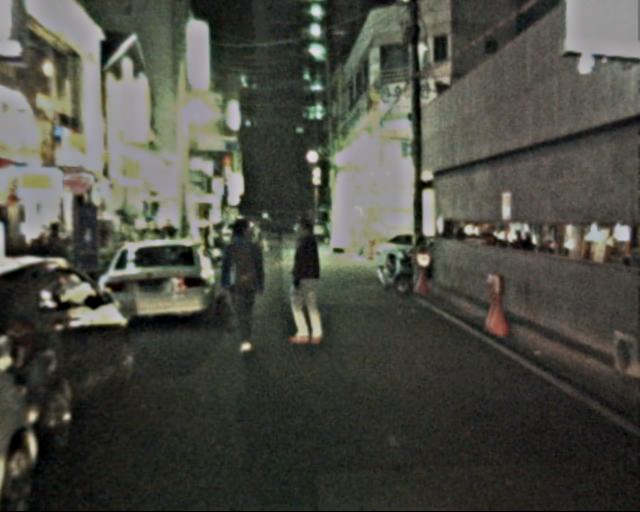person: (216, 218, 271, 351), (280, 221, 331, 344)
